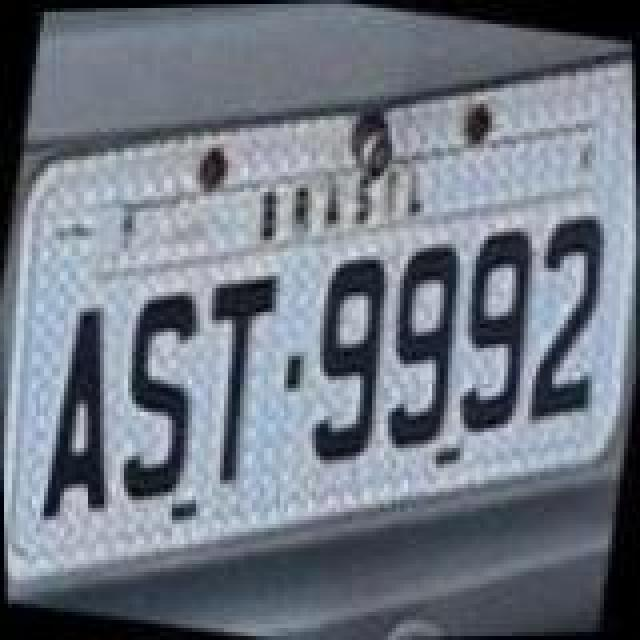2: (510, 206, 622, 434)
9: (292, 244, 404, 472), (366, 230, 478, 458), (438, 220, 550, 440)
A: (32, 298, 140, 534)
S: (98, 280, 214, 508)
T: (176, 258, 288, 494)
